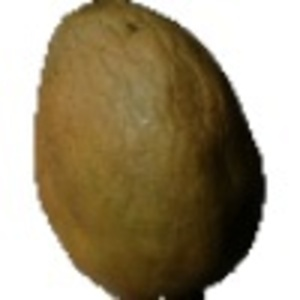mamão: (20, 1, 267, 294)
